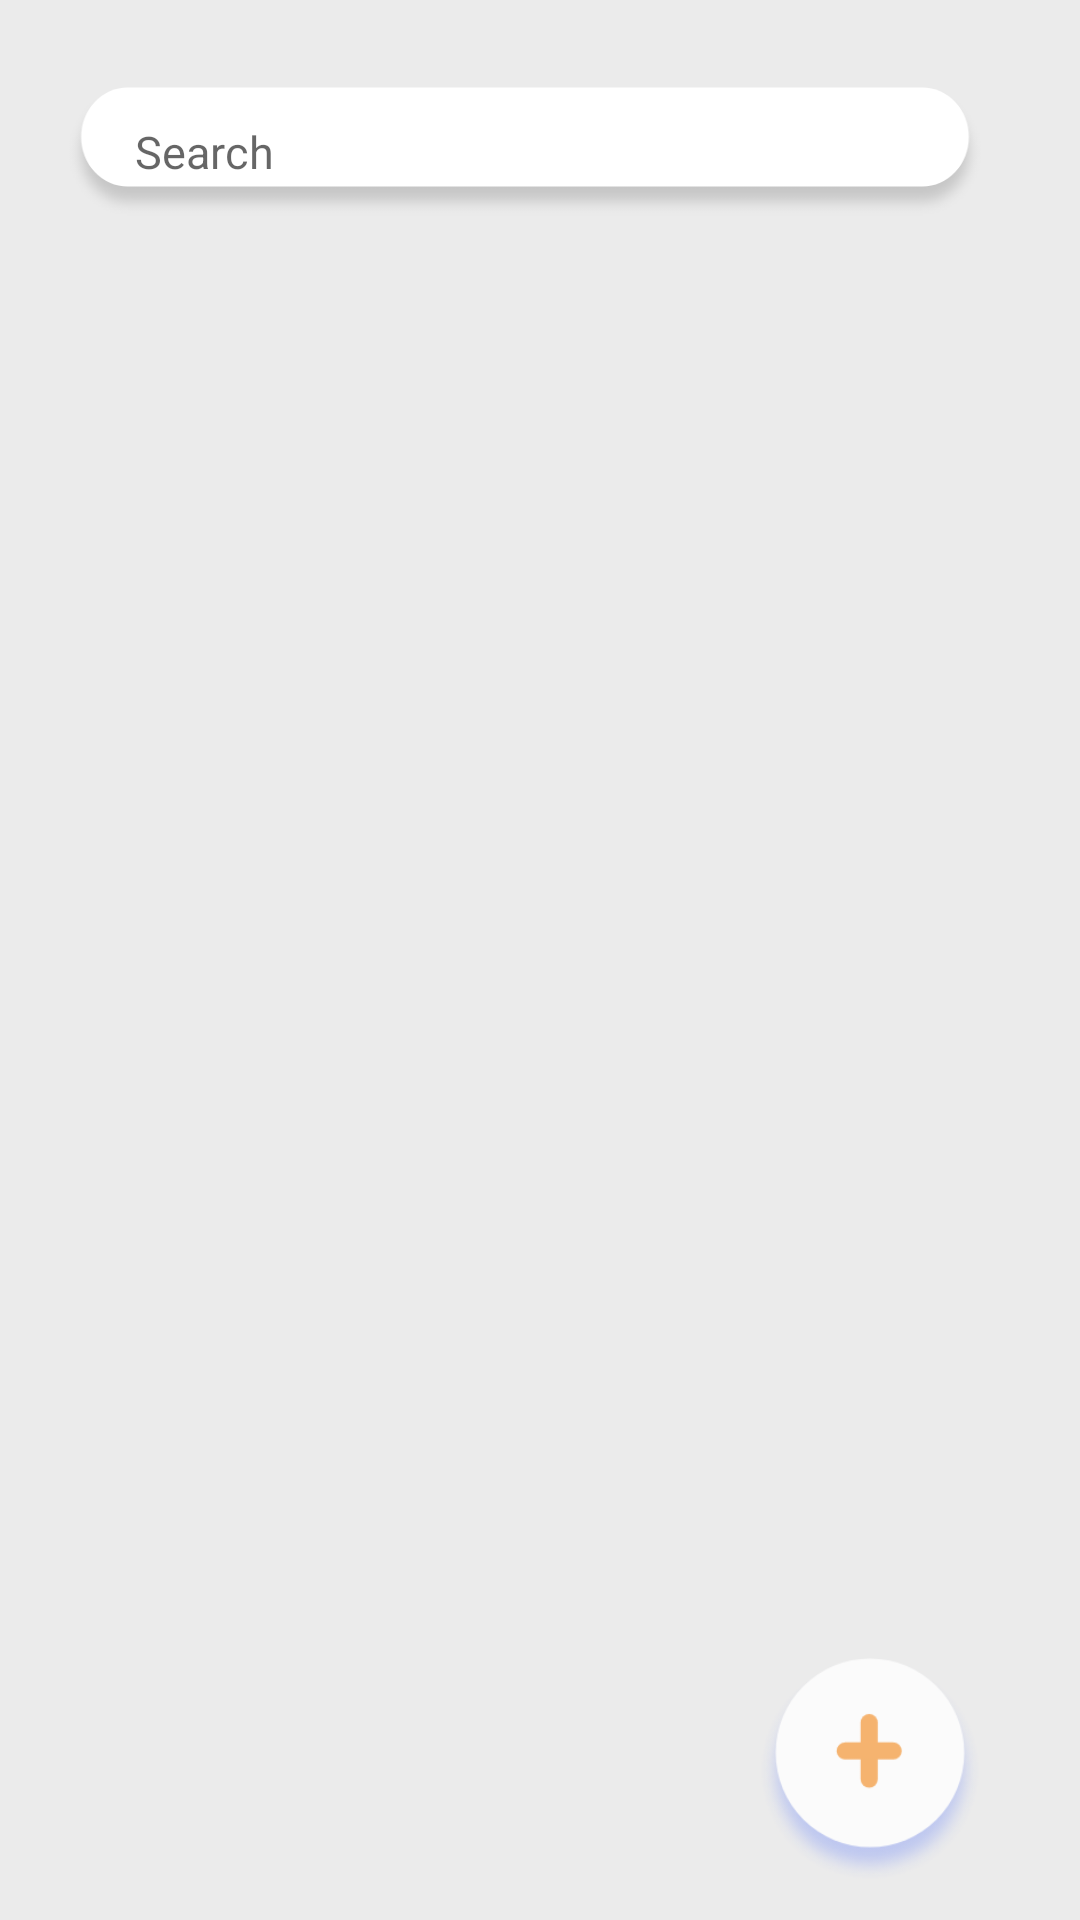

Named icons in this screenshot (1080 x 1920) and their centers, (x=x, y=y):
add toggle: (x=870, y=1765)
